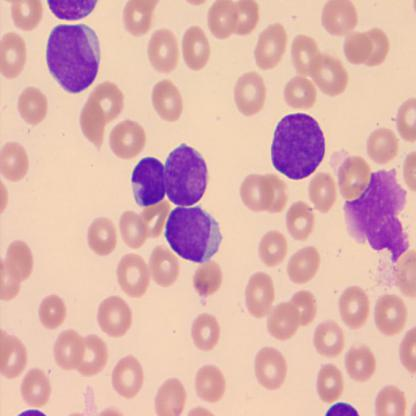Blast: (43, 20, 102, 96), (269, 110, 327, 184), (162, 204, 225, 266), (160, 142, 210, 210), (129, 152, 167, 210)
